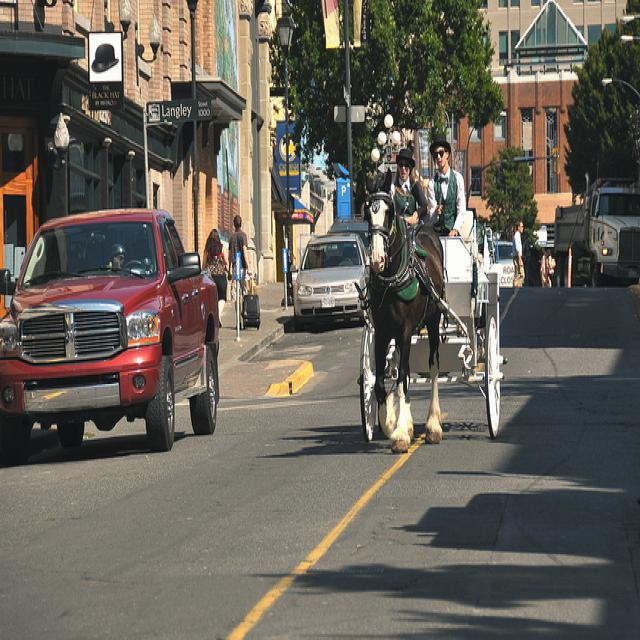Vehicle: (1, 208, 221, 459), (554, 172, 640, 288), (290, 233, 371, 332), (326, 222, 369, 258)
